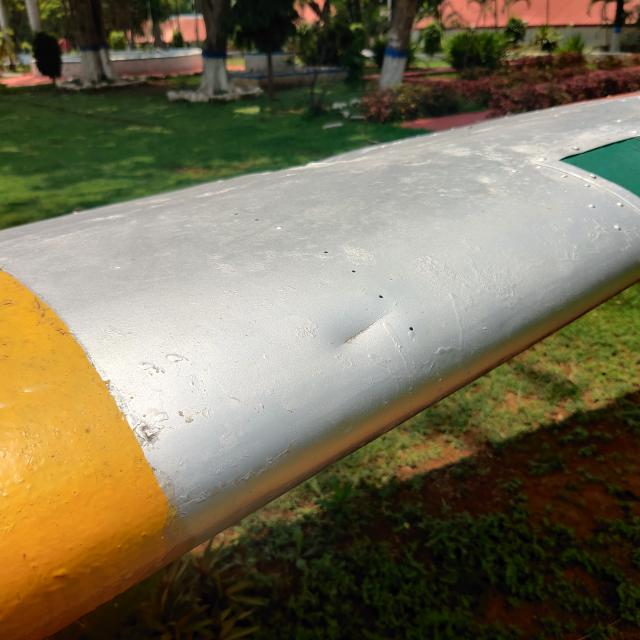dent: (314, 271, 420, 367)
